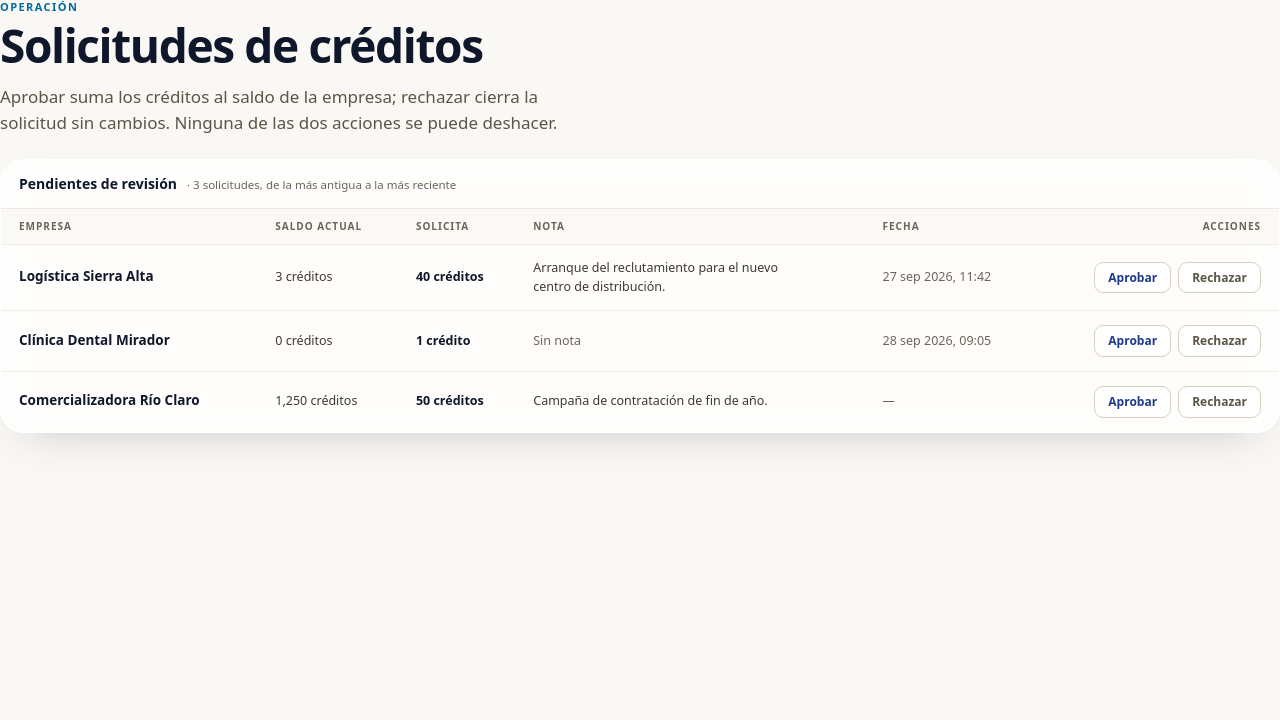
AdminCreditosPage › «Rechazar» también pide confirmación y, al confirmar, rechaza y quita la fila
This screenshot has width=1280, height=720.
Click the button "Rechazar" in the row of "Comercializadora Río Claro" at coordinates (1220, 402), box x1=1178 y1=386 x2=1261 y2=418
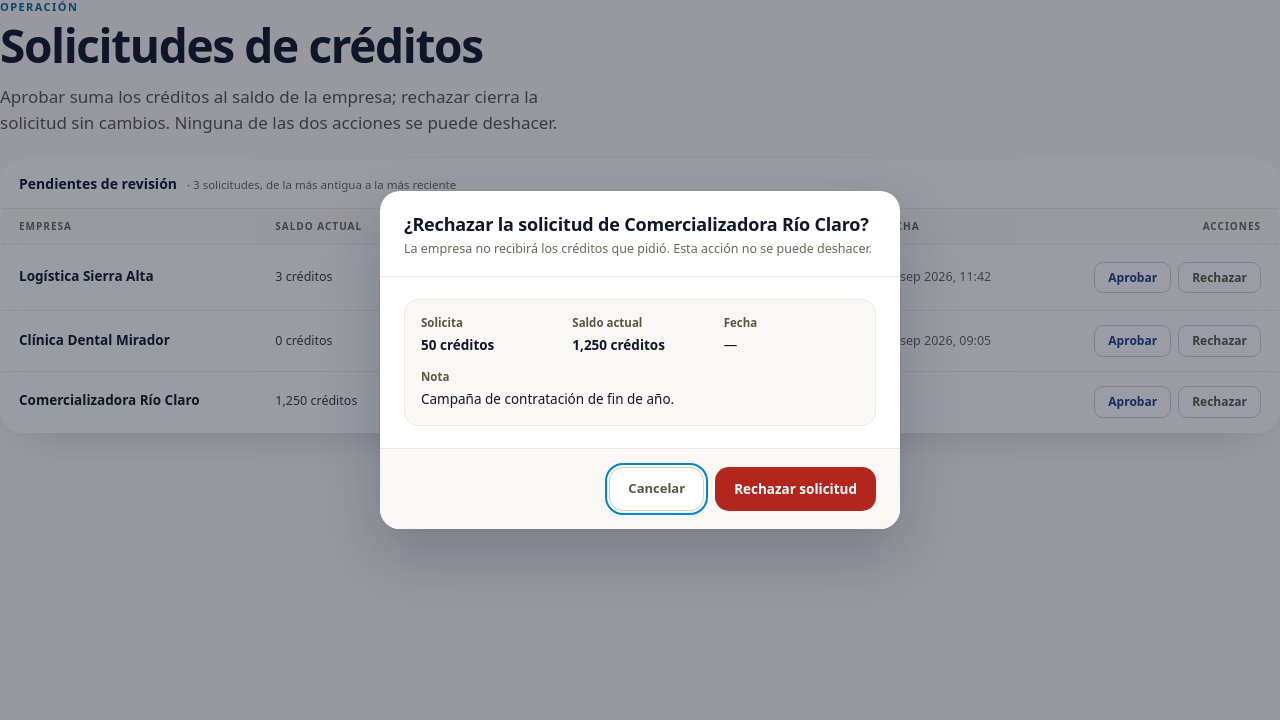
Click the button "Rechazar solicitud" at coordinates (796, 489), box x1=715 y1=467 x2=876 y2=511
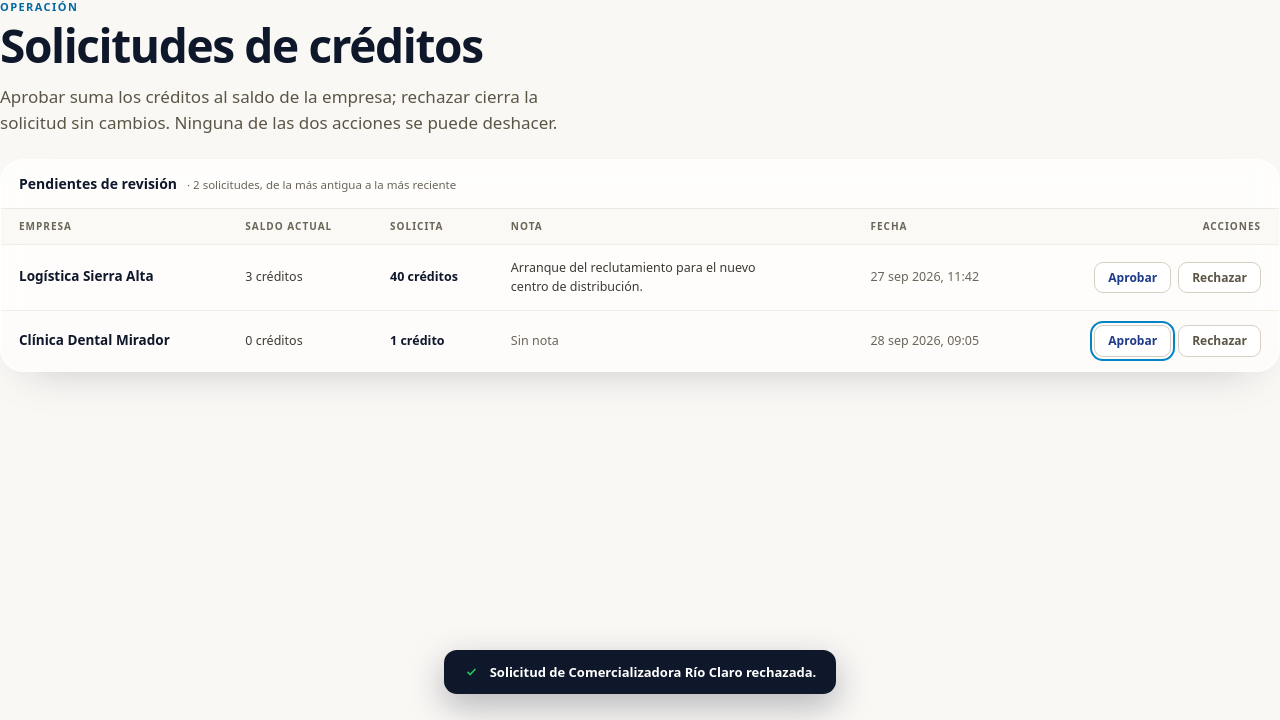
Check: the text "Solicitud de Comercializadora Río Claro rechazada." is shown, box x1=490 y1=663 x2=816 y2=681
